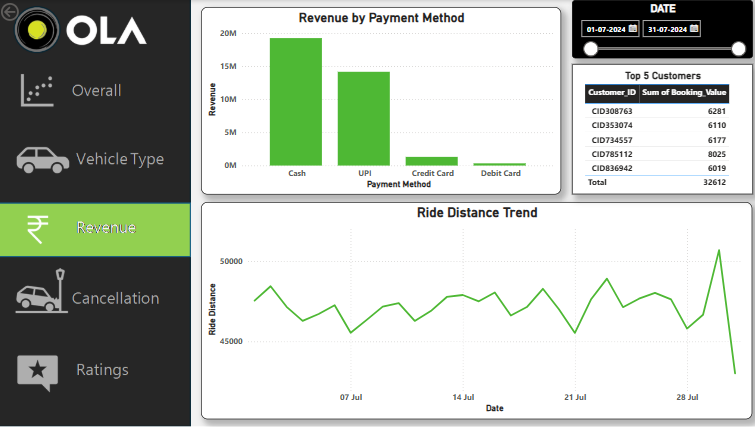

What the dashboard file says about the page in this screenshot:
{"tool":"powerbi","page":{"name":"Revenue ","canvas":[1280,720],"ordinal":2},"visuals":[{"type":"actionButton","box":[0,221.8,325.4,93.6],"z":0},{"type":"actionButton","box":[0,339.8,325.4,89.3],"z":1000},{"type":"actionButton","box":[0,447.8,325.4,93.6],"z":2000},{"type":"actionButton","box":[0,576,325.4,93.6],"z":3000},{"type":"actionButton","box":[0,108,325.4,90.7],"z":4000},{"type":"columnChart","title":"Revenue by Payment Method","fields":{"Y":["Sum(July.Booking_Value)"],"Category":["July.Payment_Method"]},"box":[341.3,11.5,604.8,315.4],"z":5000},{"type":"lineChart","title":"Ride Distance Trend","fields":{"Category":["July.Date.Variation.Date Hierarchy.Year","July.Date.Variation.Date Hierarchy.Quarter","July.Date.Variation.Date Hierarchy.Month","July.Date.Variation.Date Hierarchy.Day"],"Y":["Sum(July.Ride_Distance)"]},"box":[341.5,340,926.2,364.6],"z":6000},{"type":"slicer","title":"DATE","fields":{"Values":["July.Date"]},"box":[963.4,0,303.8,97.9],"z":7000},{"type":"tableEx","title":"Top 5 Customers","fields":{"Values":["July.Customer_ID","Sum(July.Booking_Value)"]},"box":[963.4,108,303.8,218.9],"z":8000},{"type":"actionButton","box":[0,0,100,40],"z":9000}]}

Visuals, with their boxes in screenshot pixels (x1, y1, x2, y2), scaled from the page's 1280x720 canvas onto the 755x427 screenshot:
actionButton: (0,132,192,187)
actionButton: (0,202,192,254)
actionButton: (0,266,192,321)
actionButton: (0,342,192,397)
actionButton: (0,64,192,118)
"Revenue by Payment Method" columnChart: (201,7,558,194)
"Ride Distance Trend" lineChart: (201,202,748,418)
"DATE" slicer: (568,0,747,58)
"Top 5 Customers" tableEx: (568,64,747,194)
actionButton: (0,0,59,24)
